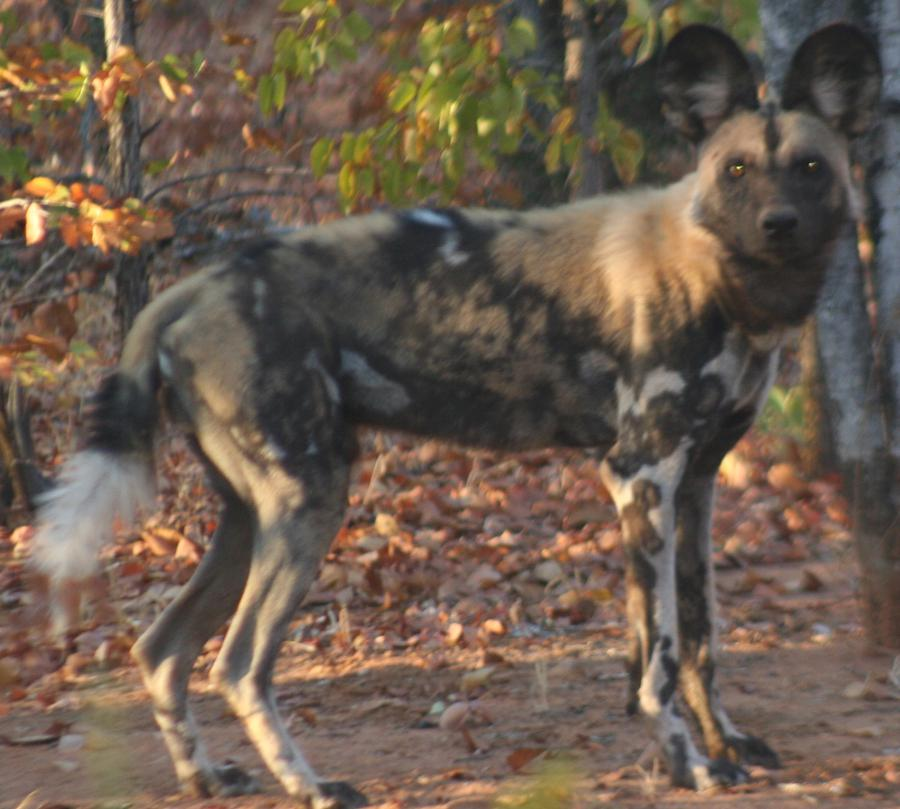wilddog: (1, 1, 900, 809)
